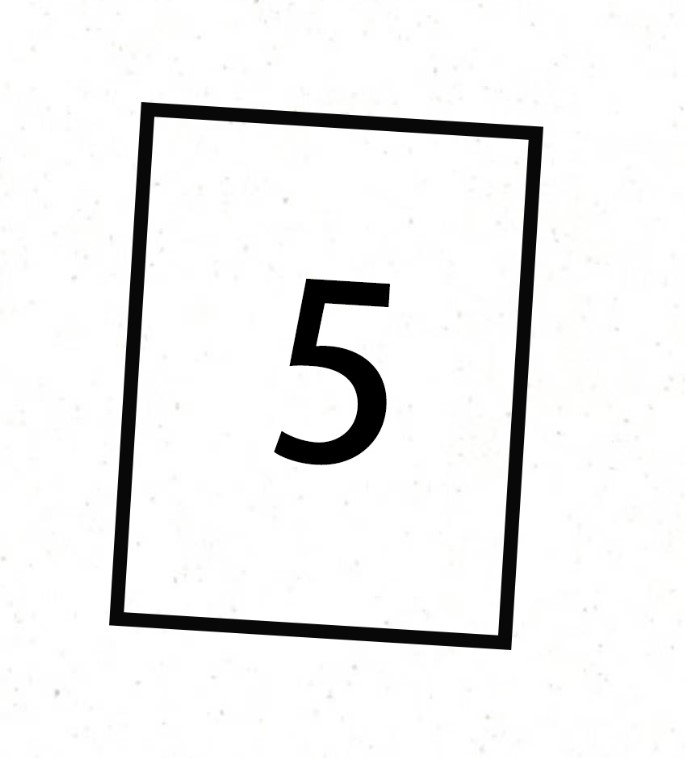five: (210, 202, 462, 526)
